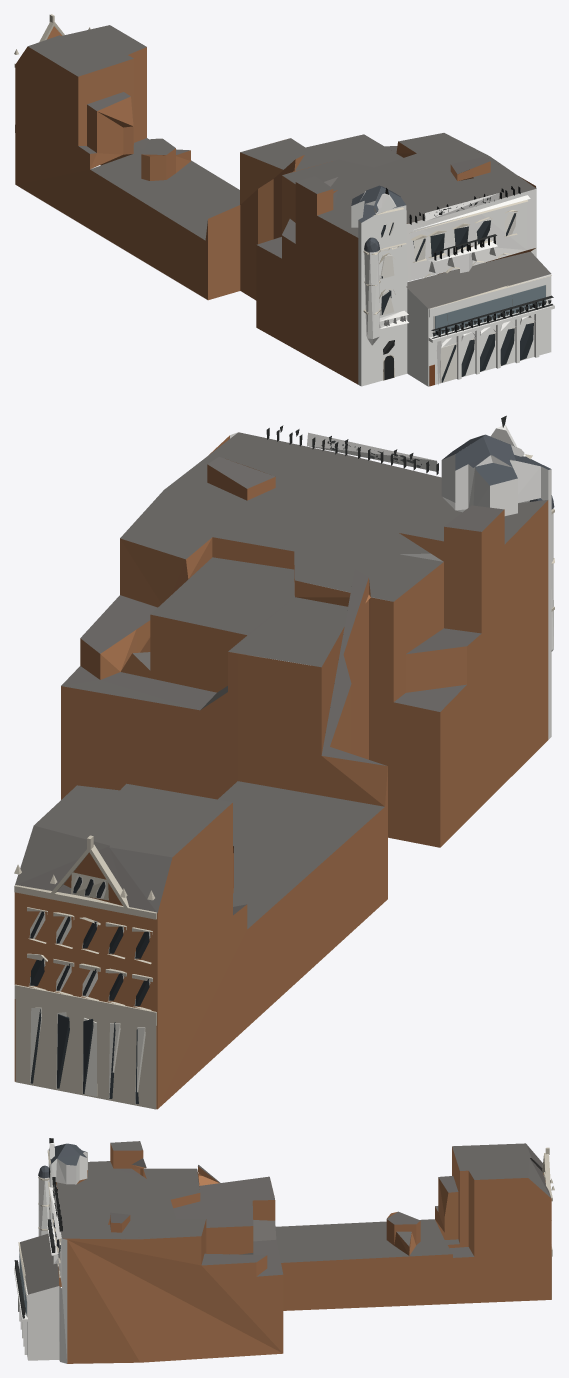
File: de-kroon-rembrandtplein.lod1.glb
3 views of the same model, one above another, from view 1: azimuth 30°, elevation 25°; view 2: azimuth 150°, elevation 25°; view 3: azimuth 270°, elevation 25° (orthographic). The views are drawn at different scales.
Parts seen in each view (by area): view 1: de-kroon-rembrandtplein; view 2: de-kroon-rembrandtplein; view 3: de-kroon-rembrandtplein.
Part boxes in pixels (x1,y1,x2,y2): de-kroon-rembrandtplein: [14, 14, 554, 386]; de-kroon-rembrandtplein: [14, 415, 554, 1109]; de-kroon-rembrandtplein: [14, 1138, 554, 1363].
Size of the model in its own units: 29.76 by 22.7 by 69.34.
